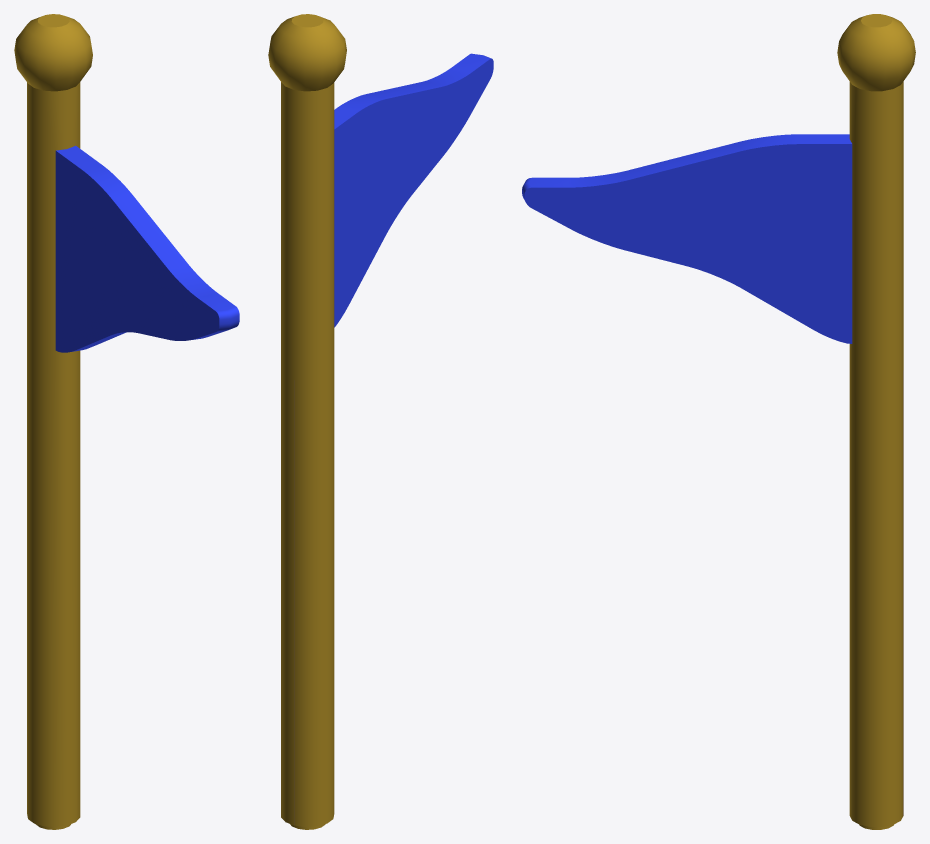
Rendered from SM_flag.fbx.
The picture shows the model from 3 angles, left to right: view 1: azimuth 30°, elevation 25°; view 2: azimuth 150°, elevation 25°; view 3: azimuth 270°, elevation 25°; orthographic projection.
Visible parts, largest first — view 1: SM_flag; view 2: SM_flag; view 3: SM_flag.
Part boxes in pixels (x1,y1,x2,y2): SM_flag: (14,14,239,829); SM_flag: (268,14,493,829); SM_flag: (522,14,915,829).
Size of the model in its own units: 17.97 by 204 by 90.99.
